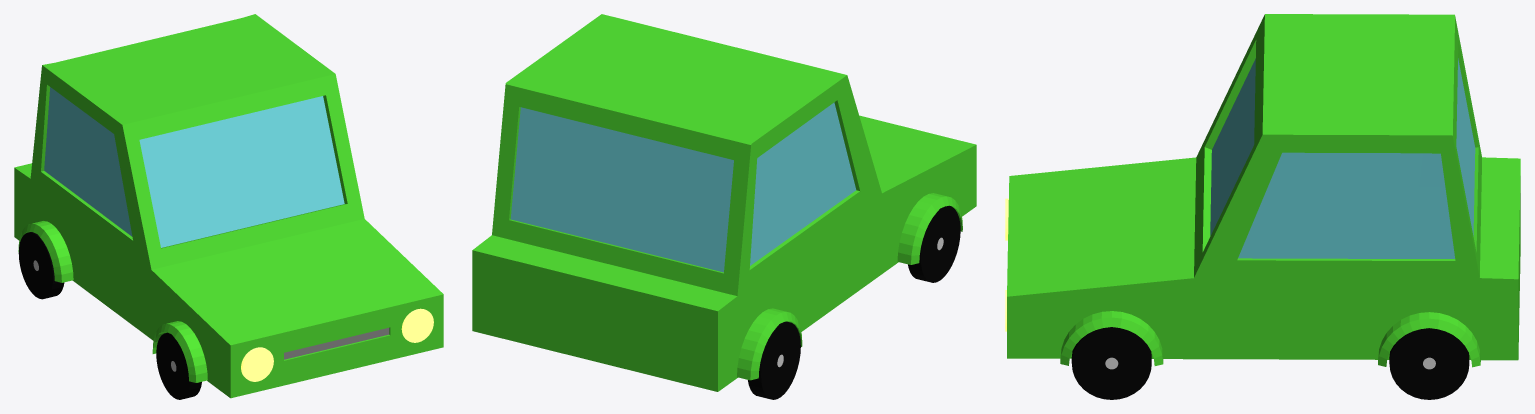
The model's file is carro1.gltf.
3 renders of one model, left to right at view 1: azimuth 30°, elevation 25°; view 2: azimuth 150°, elevation 25°; view 3: azimuth 270°, elevation 25°, orthographic. The views are drawn at different scales.
Visible parts, largest first — view 1: Cube; view 2: Cube; view 3: Cube.
Part boxes in pixels (x1,y1,x2,y2): Cube: [14, 14, 443, 399]; Cube: [472, 14, 976, 399]; Cube: [1005, 14, 1520, 399].
Size of the model in its own units: 2.31 by 1.99 by 3.61.
